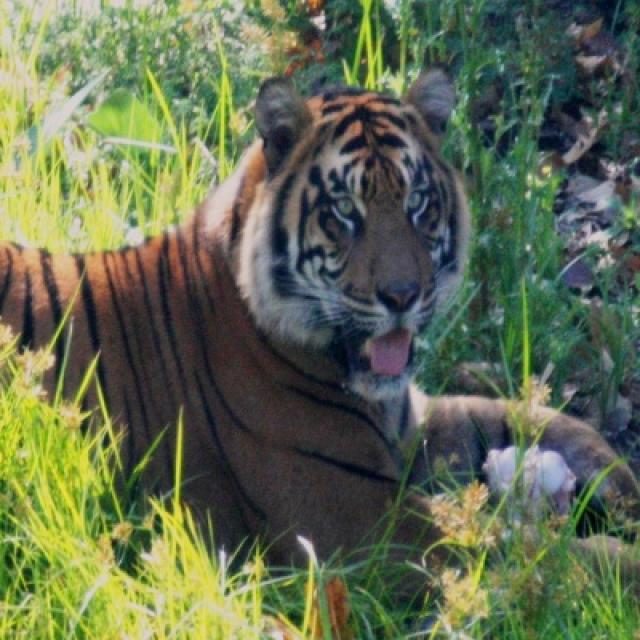Tiger: (0, 69, 507, 563)
